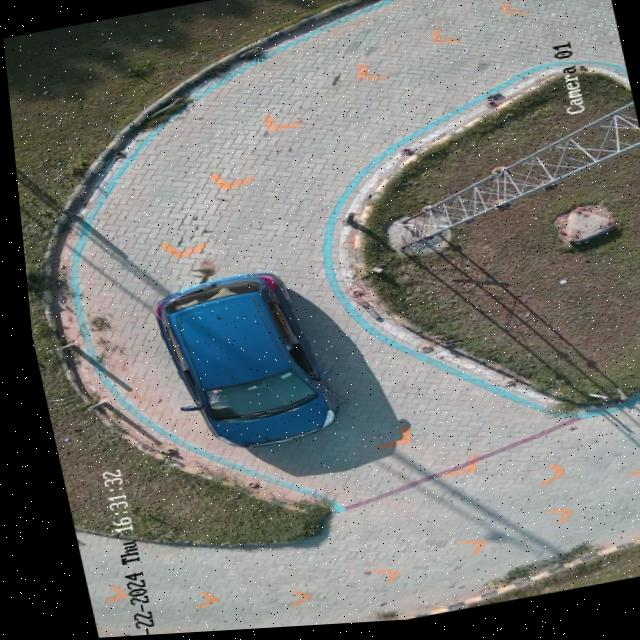car: (149, 275, 329, 449)
